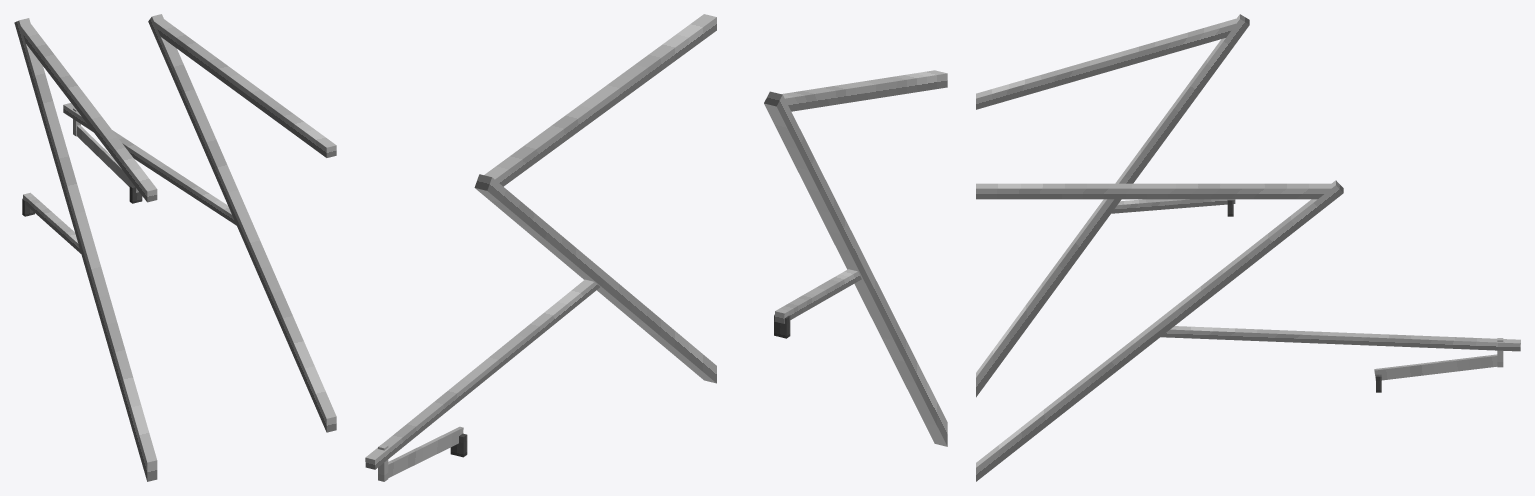
Rendered from cantilever_outer_4px.obj.
The picture shows the model from 3 angles, left to right: view 1: azimuth 30°, elevation 25°; view 2: azimuth 150°, elevation 25°; view 3: azimuth 270°, elevation 25°; orthographic projection. The views are drawn at different scales.
Visible parts, largest first — view 1: 67e0ea07-4ee5-41ff-88ab-9e58e7167300, 98d4dc47-d673-4a4a-9ac3-6d6678672c5a, 5b9634c9-0ceb-4d8a-9af1-2409b1cd3db9, 96454fb0-b650-49af-93f5-6153535696d8, c042bd3c-113e-4225-a1a7-92513ee4b936, 753bd620-1b98-47f1-ae22-f97193b3920d, f1b0a023-841c-4220-9bc9-4396add3fc1b; view 2: 67e0ea07-4ee5-41ff-88ab-9e58e7167300, 98d4dc47-d673-4a4a-9ac3-6d6678672c5a, 5b9634c9-0ceb-4d8a-9af1-2409b1cd3db9, c042bd3c-113e-4225-a1a7-92513ee4b936, 96454fb0-b650-49af-93f5-6153535696d8, 753bd620-1b98-47f1-ae22-f97193b3920d, f1b0a023-841c-4220-9bc9-4396add3fc1b; view 3: 98d4dc47-d673-4a4a-9ac3-6d6678672c5a, 67e0ea07-4ee5-41ff-88ab-9e58e7167300, 5b9634c9-0ceb-4d8a-9af1-2409b1cd3db9, c042bd3c-113e-4225-a1a7-92513ee4b936, 96454fb0-b650-49af-93f5-6153535696d8, f1b0a023-841c-4220-9bc9-4396add3fc1b, 753bd620-1b98-47f1-ae22-f97193b3920d.
Boxes of the visible parts, x1,y1,x2,y2 form: 67e0ea07-4ee5-41ff-88ab-9e58e7167300: [14, 18, 157, 481]; 98d4dc47-d673-4a4a-9ac3-6d6678672c5a: [148, 14, 336, 432]; 5b9634c9-0ceb-4d8a-9af1-2409b1cd3db9: [154, 19, 336, 157]; 96454fb0-b650-49af-93f5-6153535696d8: [21, 23, 157, 202]; c042bd3c-113e-4225-a1a7-92513ee4b936: [63, 103, 236, 225]; 753bd620-1b98-47f1-ae22-f97193b3920d: [22, 192, 81, 253]; f1b0a023-841c-4220-9bc9-4396add3fc1b: [77, 125, 138, 192]; 67e0ea07-4ee5-41ff-88ab-9e58e7167300: [764, 91, 947, 446]; 98d4dc47-d673-4a4a-9ac3-6d6678672c5a: [474, 174, 716, 383]; 5b9634c9-0ceb-4d8a-9af1-2409b1cd3db9: [484, 14, 716, 186]; c042bd3c-113e-4225-a1a7-92513ee4b936: [365, 279, 599, 469]; 96454fb0-b650-49af-93f5-6153535696d8: [781, 70, 947, 111]; 753bd620-1b98-47f1-ae22-f97193b3920d: [774, 269, 861, 323]; f1b0a023-841c-4220-9bc9-4396add3fc1b: [388, 426, 463, 477]; 98d4dc47-d673-4a4a-9ac3-6d6678672c5a: [976, 180, 1343, 481]; 67e0ea07-4ee5-41ff-88ab-9e58e7167300: [976, 14, 1249, 397]; 5b9634c9-0ceb-4d8a-9af1-2409b1cd3db9: [976, 183, 1331, 199]; c042bd3c-113e-4225-a1a7-92513ee4b936: [1161, 326, 1520, 351]; 96454fb0-b650-49af-93f5-6153535696d8: [976, 18, 1236, 109]; f1b0a023-841c-4220-9bc9-4396add3fc1b: [1374, 354, 1497, 380]; 753bd620-1b98-47f1-ae22-f97193b3920d: [1111, 199, 1235, 213].
Size of the model in its own units: 1.19 by 2.2 by 2.87.
